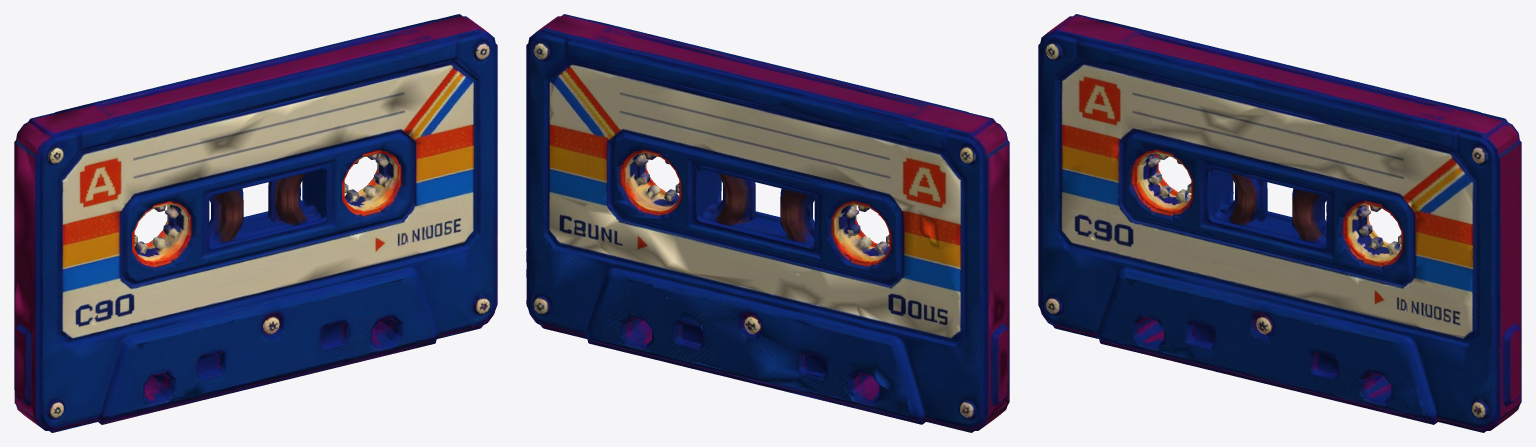
The model's file is retro_caset.glb.
3 views of the same model, side by side, from view 1: azimuth 30°, elevation 25°; view 2: azimuth 150°, elevation 25°; view 3: azimuth 330°, elevation 25° (orthographic).
Parts seen in each view (by area): view 1: node_0; view 2: node_0; view 3: node_0.
Part boxes in pixels (x1,y1,x2,y2): node_0: [14, 14, 497, 432]; node_0: [526, 14, 1009, 432]; node_0: [1038, 14, 1521, 432].
Size of the model in its own units: 1.07 by 0.6524 by 0.1367.
1 material, 1 textured.
